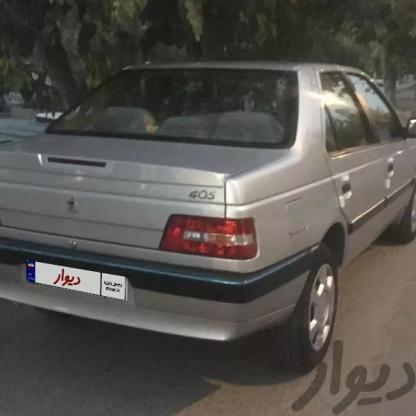Car: (0, 58, 416, 377)
